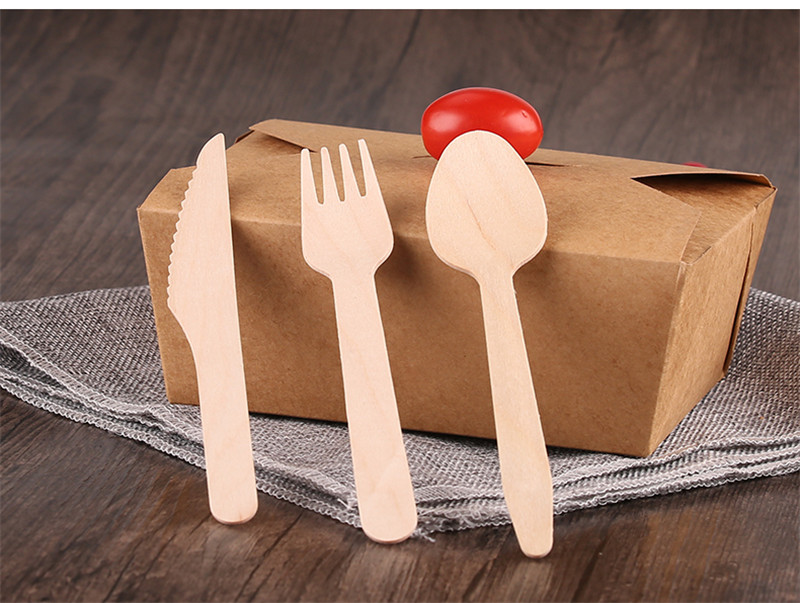Wooden Utensils: (411, 127, 571, 532), (133, 128, 279, 529), (298, 133, 411, 550)
